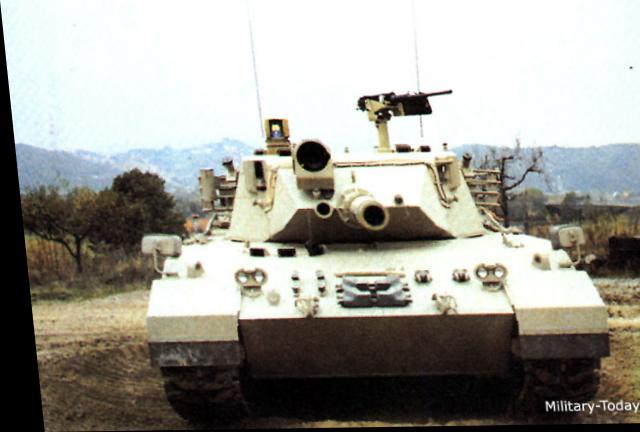tank: (105, 138, 605, 414)
